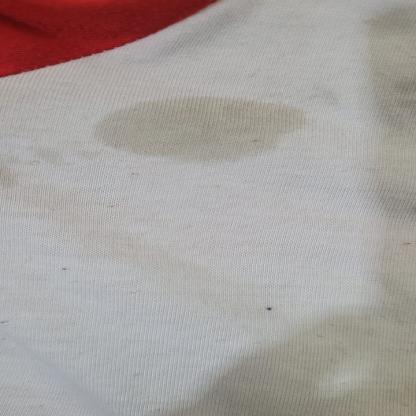spot: (104, 90, 314, 162), (156, 108, 260, 152), (32, 144, 111, 163)
